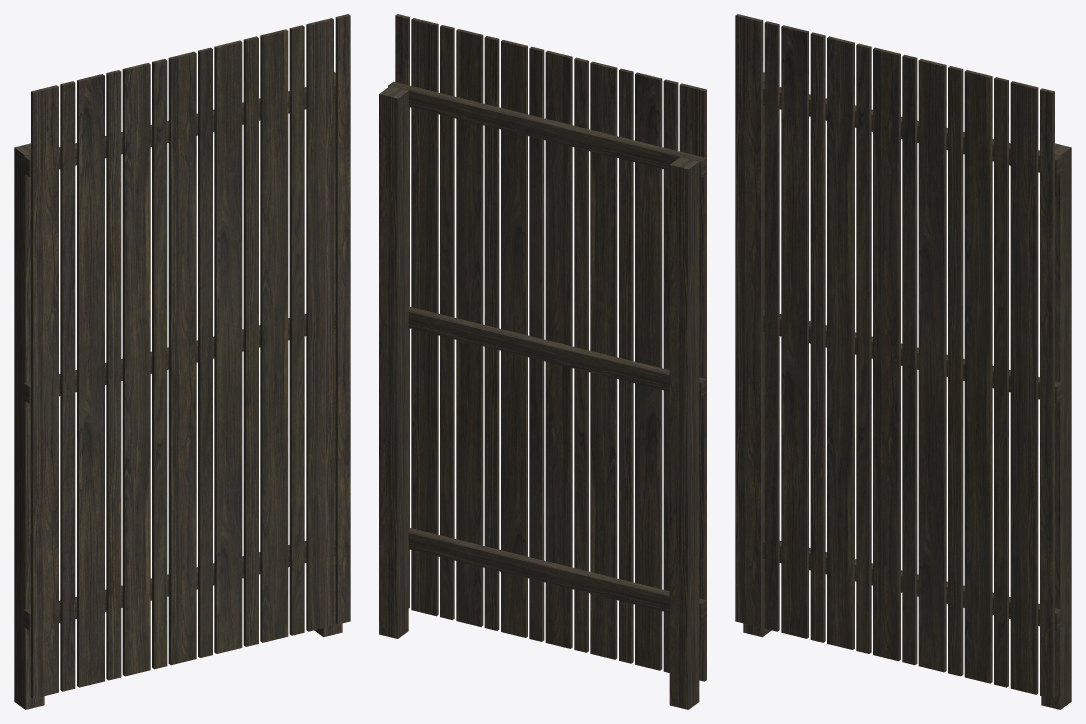
Rendered from tatehari80-40_h1800_blackebony.fbx.
The picture shows the model from 3 angles, left to right: view 1: azimuth 30°, elevation 25°; view 2: azimuth 150°, elevation 25°; view 3: azimuth 330°, elevation 25°; orthographic projection. The views are drawn at different scales.
Visible parts, largest first — view 1: tatehari80-40_h1800_blackebony; view 2: tatehari80-40_h1800_blackebony; view 3: tatehari80-40_h1800_blackebony.
Part boxes in pixels (box(x1,y1,x2,y2)): tatehari80-40_h1800_blackebony: box(14, 14, 350, 709); tatehari80-40_h1800_blackebony: box(379, 14, 706, 709); tatehari80-40_h1800_blackebony: box(735, 14, 1071, 709).
Size of the model in its own units: 100 by 185 by 10.2.
Materials: 1 (1 with a texture image).
